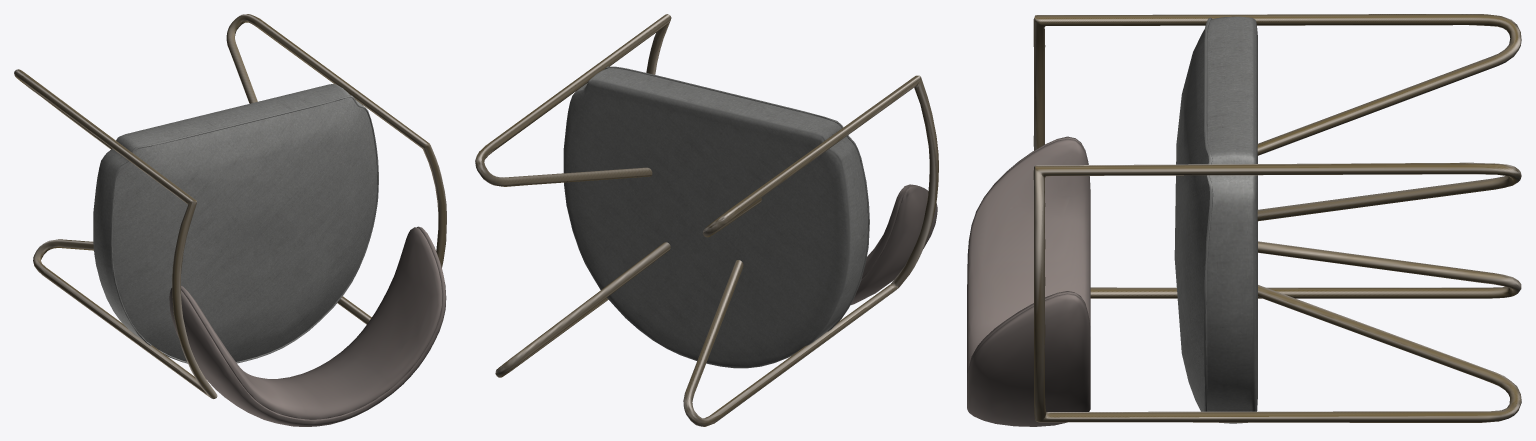
3 views of the same model, side by side, from view 1: azimuth 30°, elevation 25°; view 2: azimuth 150°, elevation 25°; view 3: azimuth 270°, elevation 25° (orthographic). The views are drawn at different scales.
Size of the model in its own units: 0.5465 by 0.469 by 0.7277.
